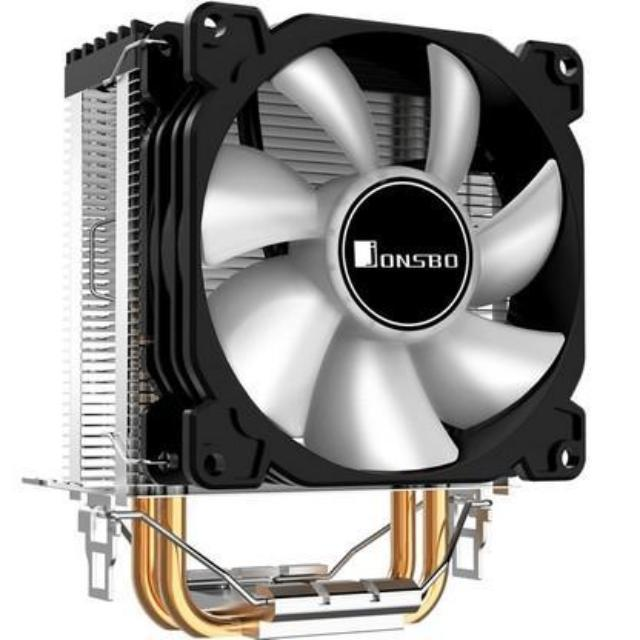CPU_Fan: (39, 3, 588, 640)
